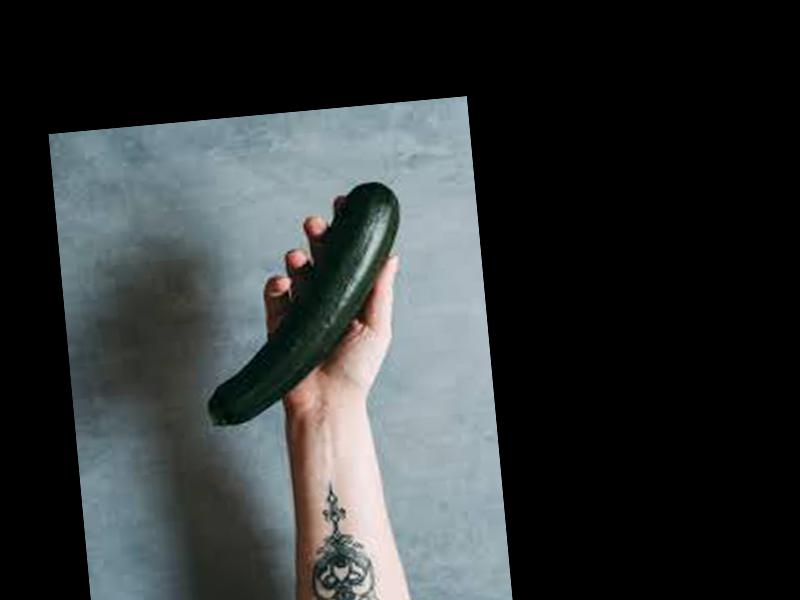Cucumber: (189, 179, 416, 425)
